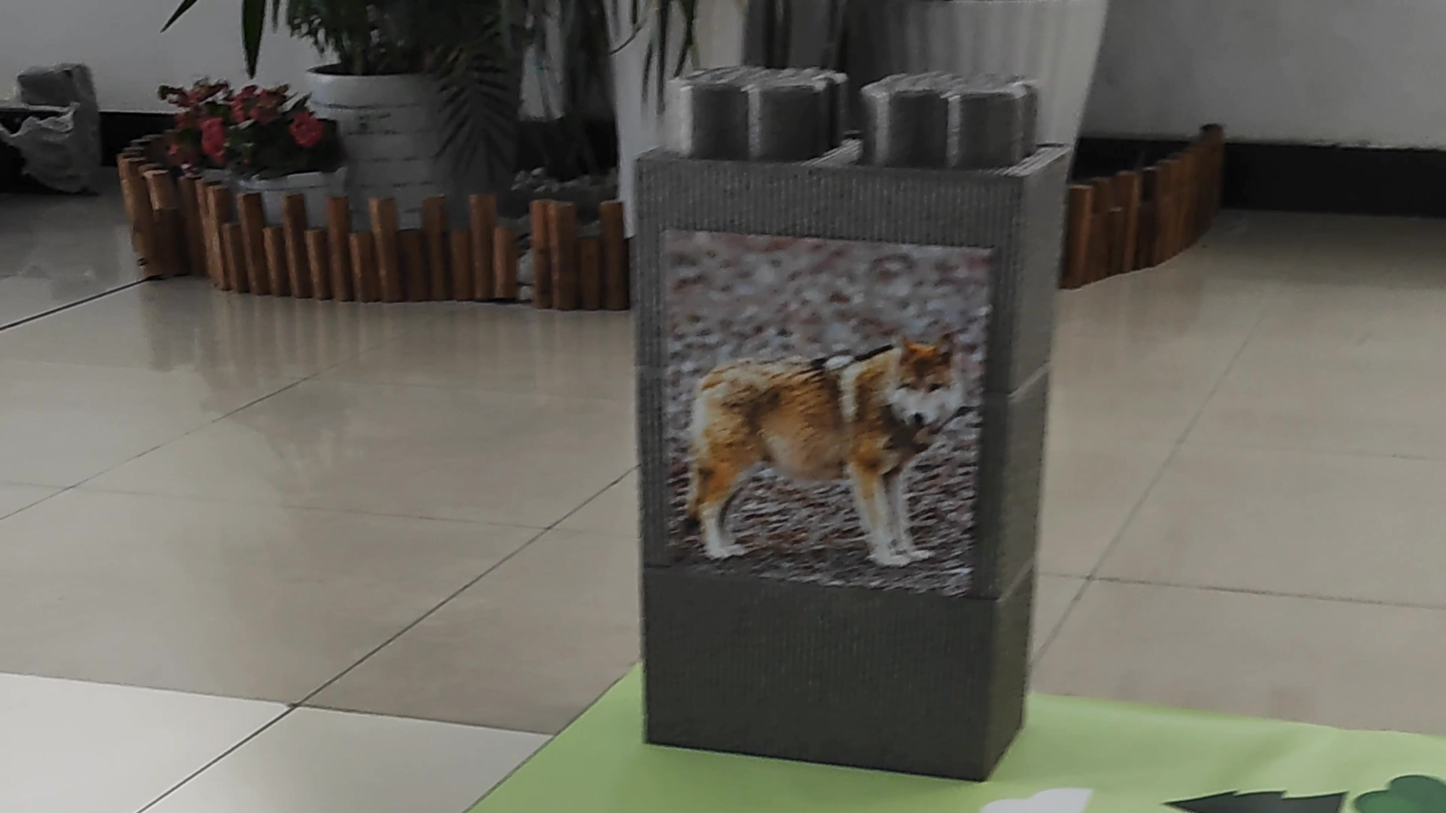wolf: (689, 295, 971, 567)
